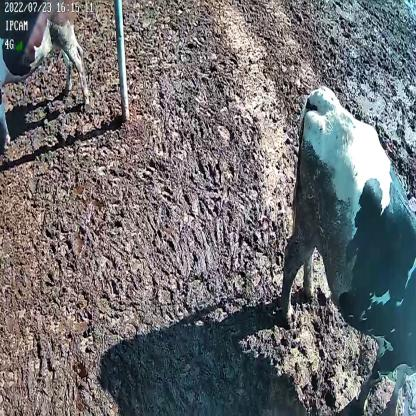cow: (279, 85, 416, 413)
